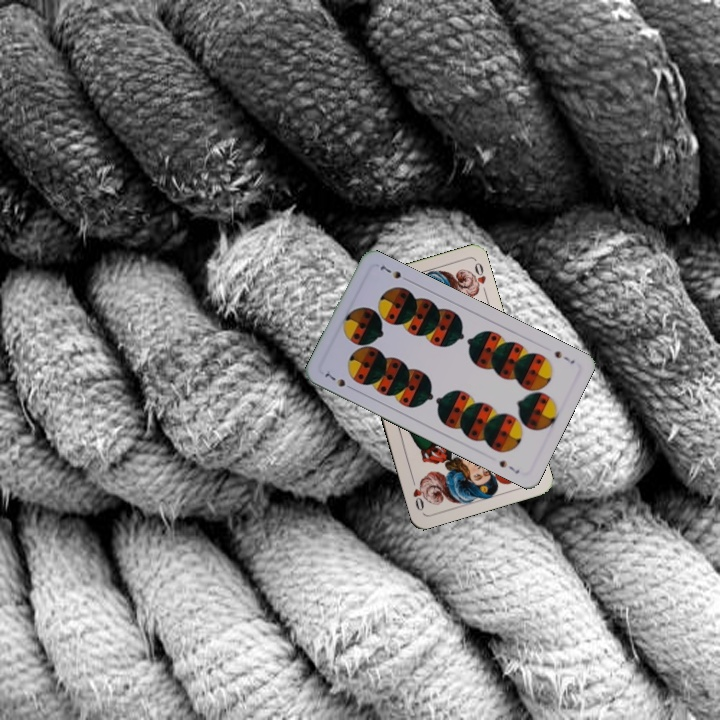S7: (321, 369, 357, 393), (550, 347, 577, 367)
